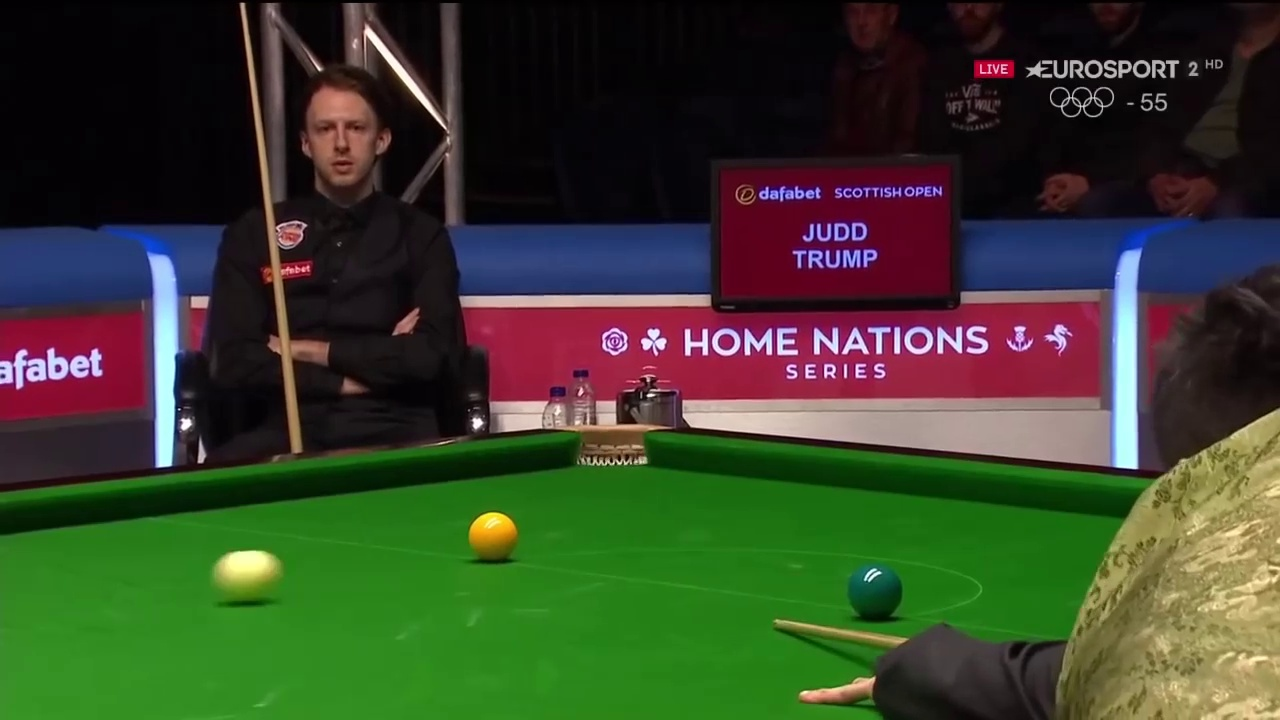green: (851, 567, 900, 623)
white: (211, 550, 279, 605)
yellow: (467, 514, 518, 559)
